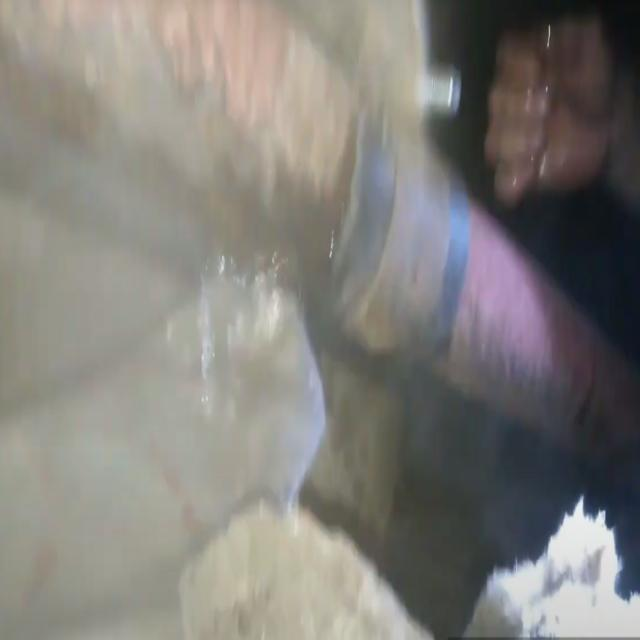leak: (200, 262, 299, 403)
